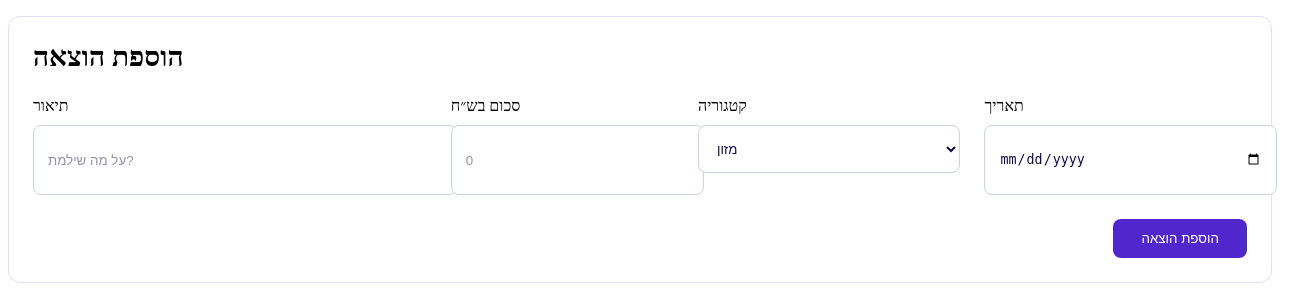
Test case: submits a valid expense and clears the form
// מילוי הטופס
In the field labelled "תיאור": (245, 160) [33,125,457,195], type "קניות בסופר"
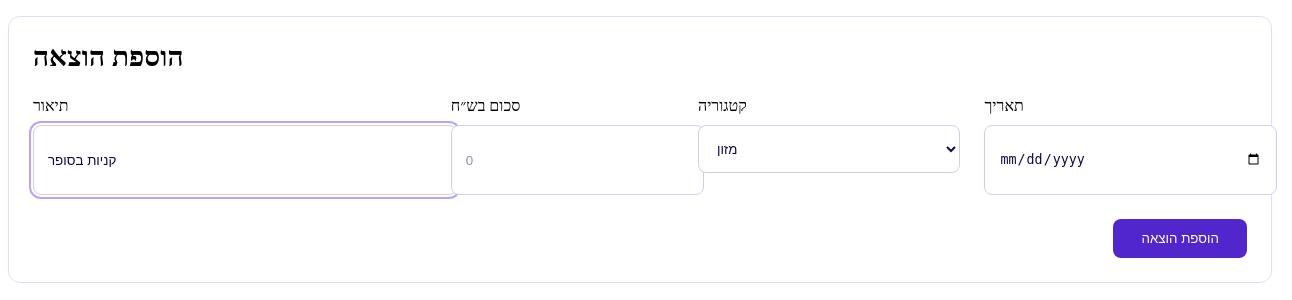
In the number field labelled "סכום בש״ח": (577, 160) [451,125,704,195], type "100.50"
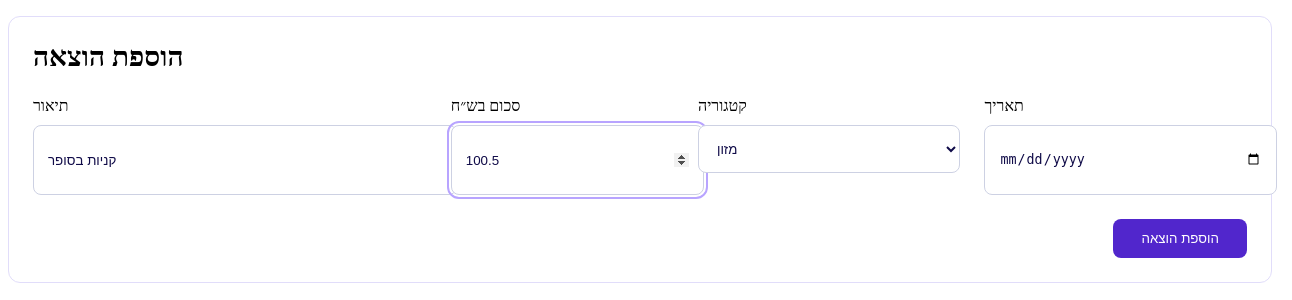
Select "מזון" in the dropdown labelled "קטגוריה": (829, 149) [698,125,960,173]
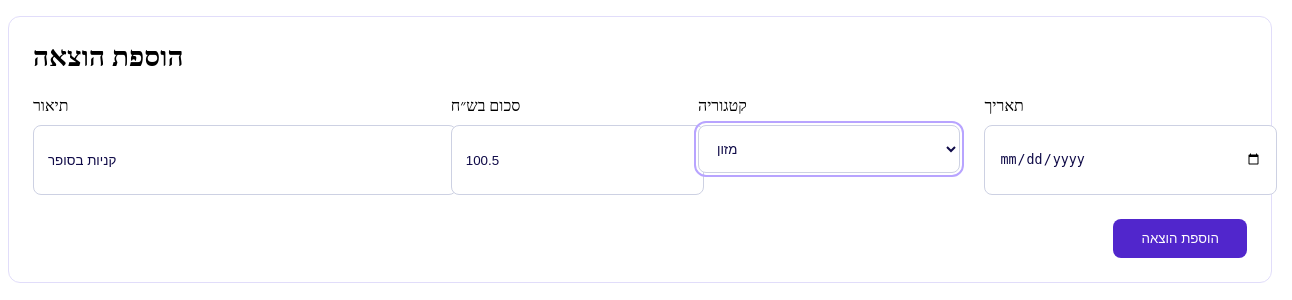
In the date field labelled "תאריך": (1131, 160) [984,125,1277,195], type "2026-10-28"
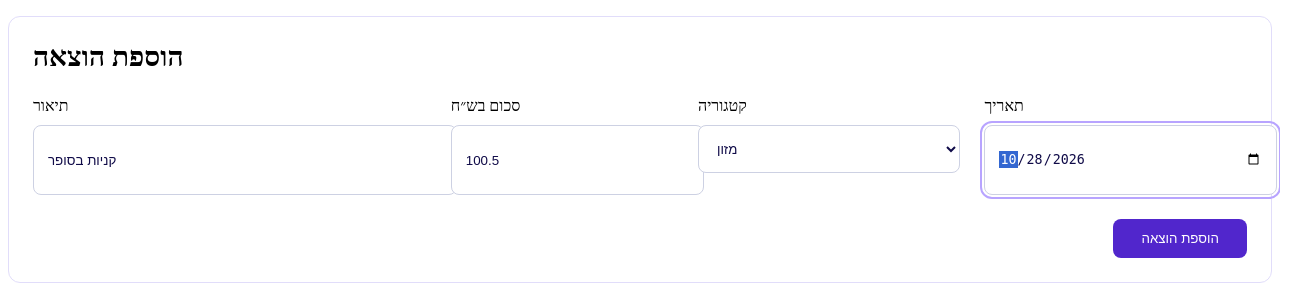
// לחיצה על הוספה
Click the button "הוספת הוצאה": click(1180, 238) [1113,219,1247,258]
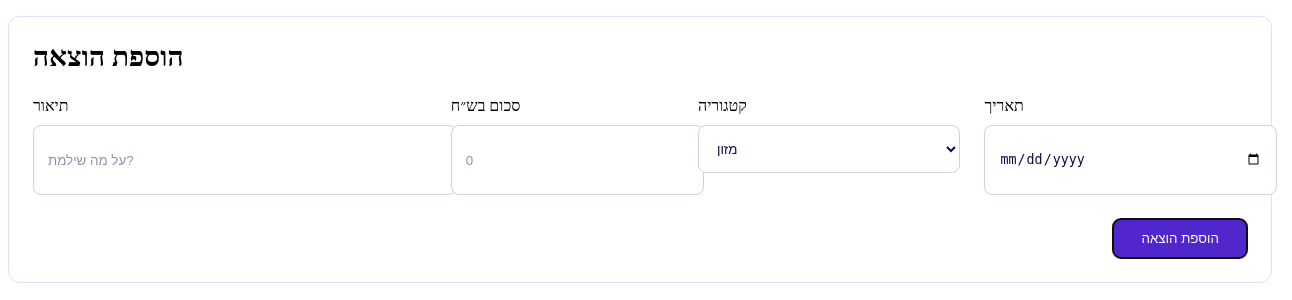
Result: the field labelled "תיאור" is empty at [33,125,457,195]
Result: the number field labelled "סכום בש״ח" is not empty at [451,125,704,195]
Result: the date field labelled "תאריך" is empty at [984,125,1277,195]
